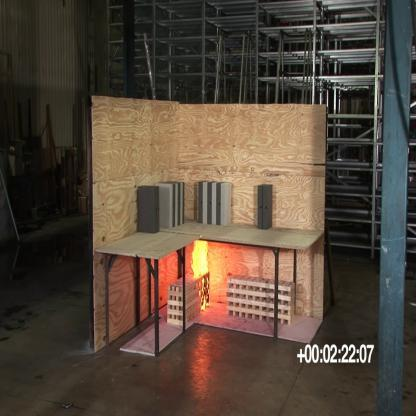fire: (186, 227, 219, 328)
